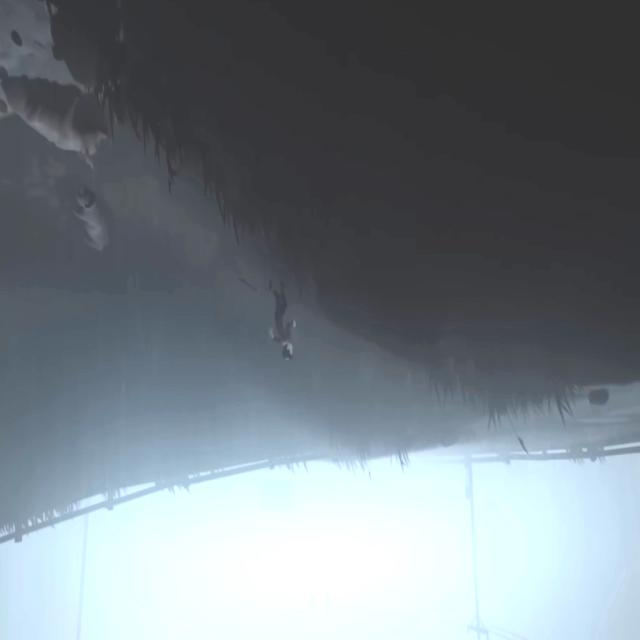boy: (269, 282, 295, 362)
